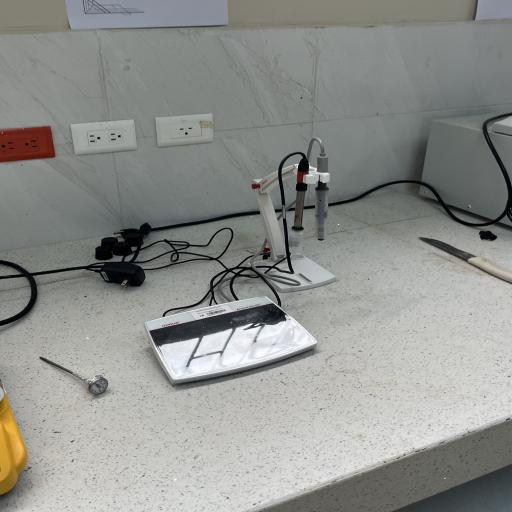Phmetro_Ohaus: (134, 288, 332, 394)
